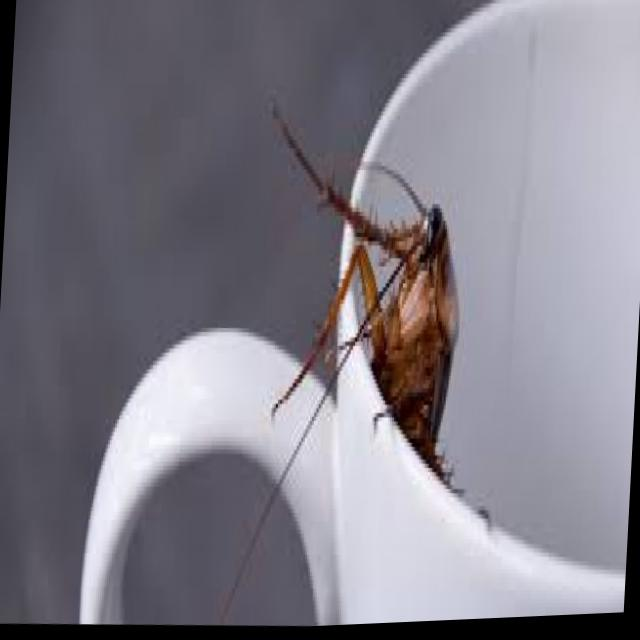Cockroach: (240, 63, 492, 519)
